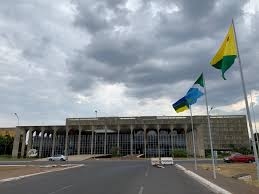Flag: (208, 17, 241, 82), (185, 70, 209, 109), (170, 91, 192, 115)
